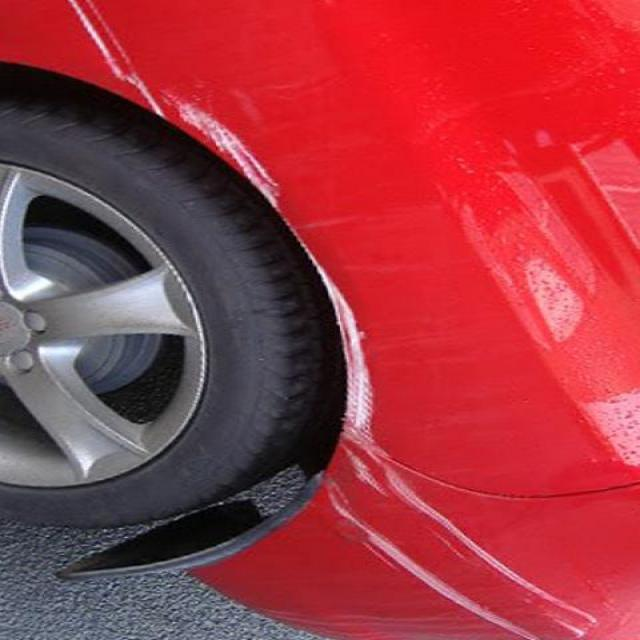scratch: (156, 67, 412, 476)
